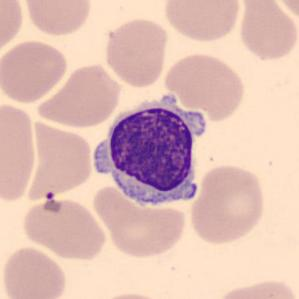Lymphocyte: (86, 92, 211, 212)
RBC: (93, 188, 190, 261), (187, 161, 268, 247), (162, 49, 247, 122), (35, 61, 124, 129), (25, 115, 94, 201), (20, 195, 108, 261), (102, 16, 170, 89), (1, 38, 70, 104), (0, 98, 39, 205), (236, 0, 298, 63), (0, 244, 70, 299), (161, 0, 242, 43), (20, 0, 94, 38), (212, 275, 298, 299), (0, 0, 26, 57), (93, 289, 170, 299), (270, 0, 299, 23)
